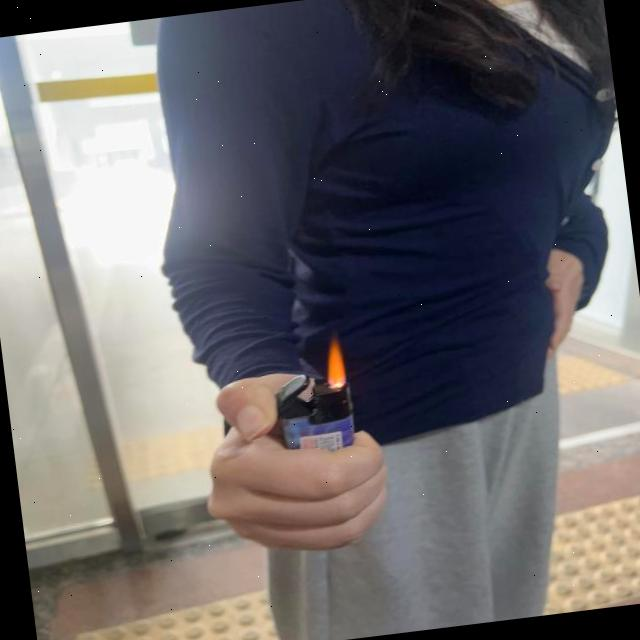fire: (320, 335, 352, 395)
